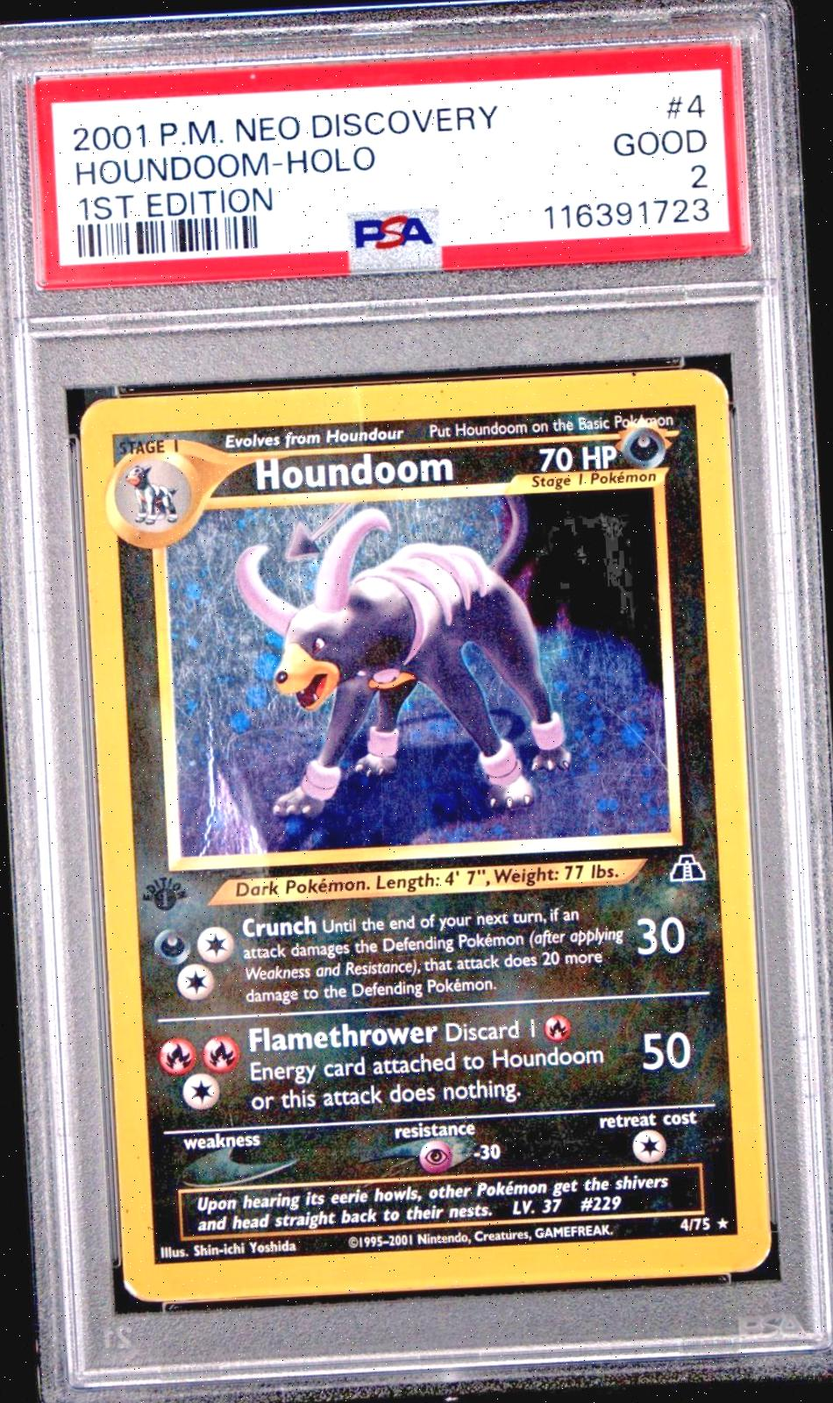card-2UtV: (79, 367, 772, 1302)
